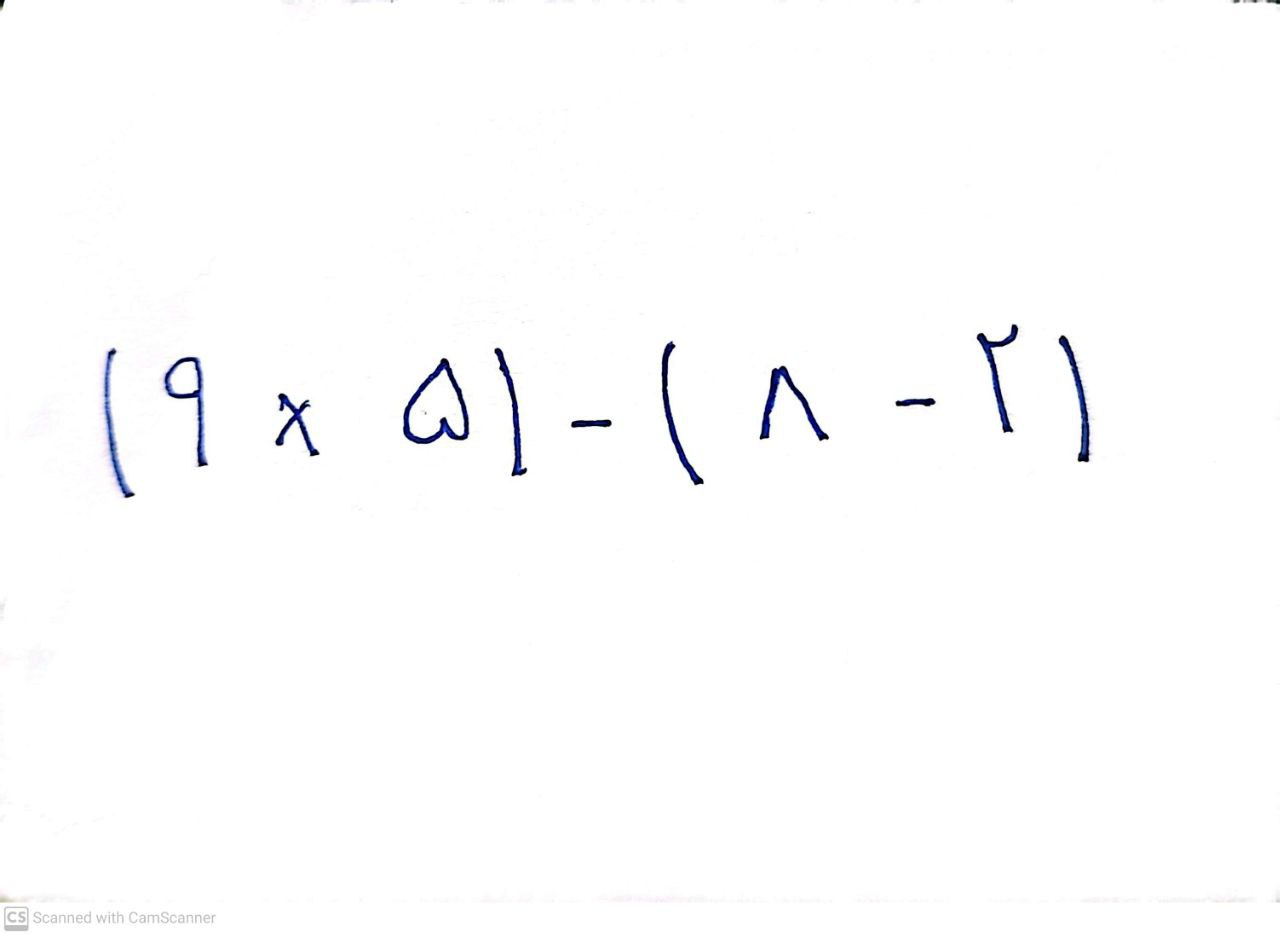character: (660, 339, 707, 490), (401, 359, 470, 444), (757, 365, 833, 442), (490, 346, 531, 477), (160, 357, 208, 468), (103, 349, 138, 501), (978, 323, 1025, 434), (1055, 334, 1094, 465), (272, 393, 321, 457), (891, 396, 938, 409), (567, 418, 614, 429)
